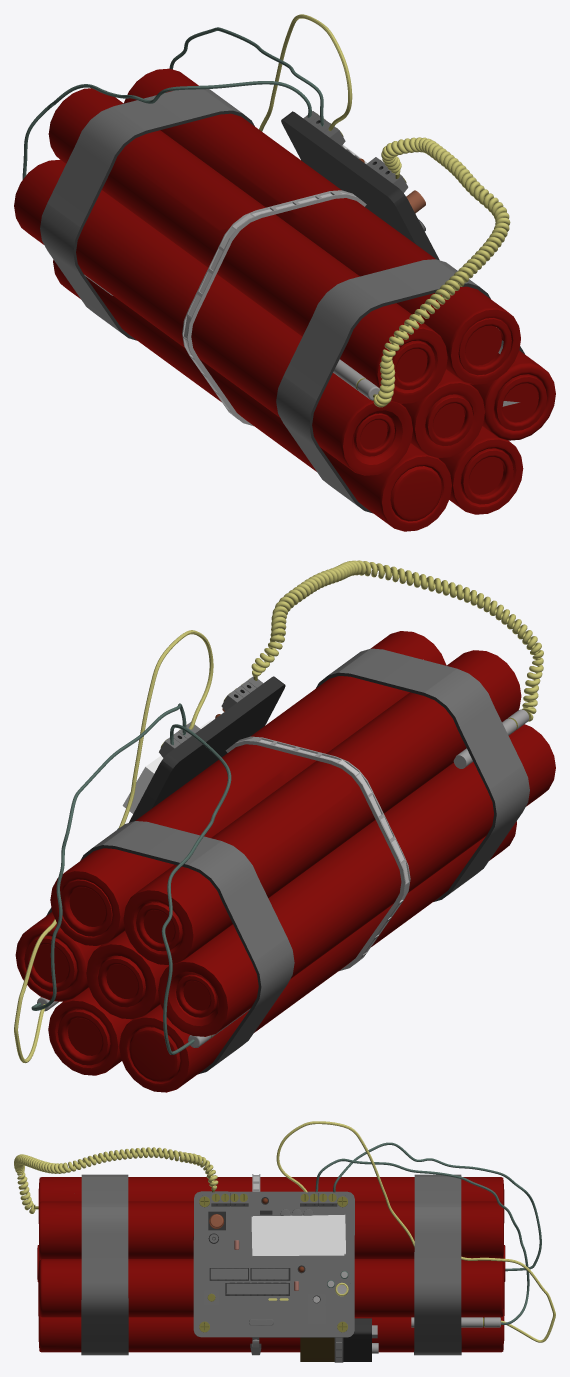
Rendered from dynamite2.glb.
The picture shows the model from 3 angles, top to bottom: view 1: azimuth 30°, elevation 25°; view 2: azimuth 150°, elevation 25°; view 3: azimuth 270°, elevation 25°; orthographic projection. The views are drawn at different scales.
Parts seen in each view (by area): view 1: polySurface22, wire0, pCube11, wire3, wire1, wire2, pCylinder34; view 2: polySurface22, wire0, pCube11, wire1, wire3, wire2, screen, pCylinder34; view 3: polySurface22, pCube11, screenPlane, wire0, pCube81, wire1, wire2, wire3, pCube13, pCylinder11, pCube7, pCube12 (+3 smaller).
Boxes of the visible parts, box(x1,y1,x2,y2) form: polySurface22: box(14, 68, 555, 531); wire0: box(373, 137, 510, 407); pCube11: box(281, 111, 439, 260); wire3: box(22, 81, 311, 179); wire1: box(259, 14, 352, 131); wire2: box(169, 27, 323, 126); pCylinder34: box(333, 359, 379, 400); polySurface22: box(15, 631, 555, 1092); wire0: box(251, 560, 543, 721); pCube11: box(129, 676, 285, 822); wire1: box(14, 630, 213, 1063); wire3: box(161, 724, 231, 1054); wire2: box(31, 703, 186, 1010); screen: box(122, 720, 211, 813); pCylinder34: box(453, 709, 529, 768); polySurface22: box(37, 1174, 505, 1355); pCube11: box(193, 1191, 354, 1337); screenPlane: box(253, 1215, 344, 1255); wire0: box(14, 1147, 218, 1213); pCube81: box(300, 1318, 371, 1362); wire1: box(276, 1121, 555, 1342); wire2: box(315, 1158, 529, 1324); wire3: box(333, 1142, 541, 1271); pCube13: box(226, 1283, 288, 1294); pCylinder11: box(411, 1317, 500, 1327); pCube7: box(251, 1268, 288, 1279); pCube12: box(210, 1268, 247, 1279).
Size of the model in its own units: 0.445 by 0.5757 by 1.17.
